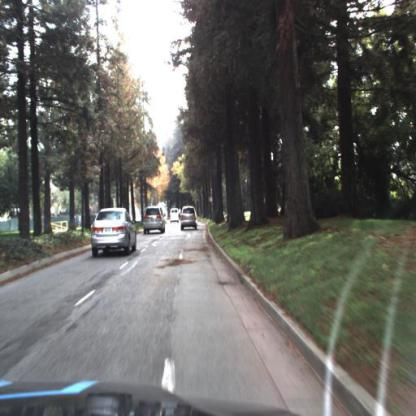car: (90, 208, 138, 256), (143, 204, 169, 237), (178, 203, 200, 231), (170, 206, 182, 227), (170, 205, 181, 226)
